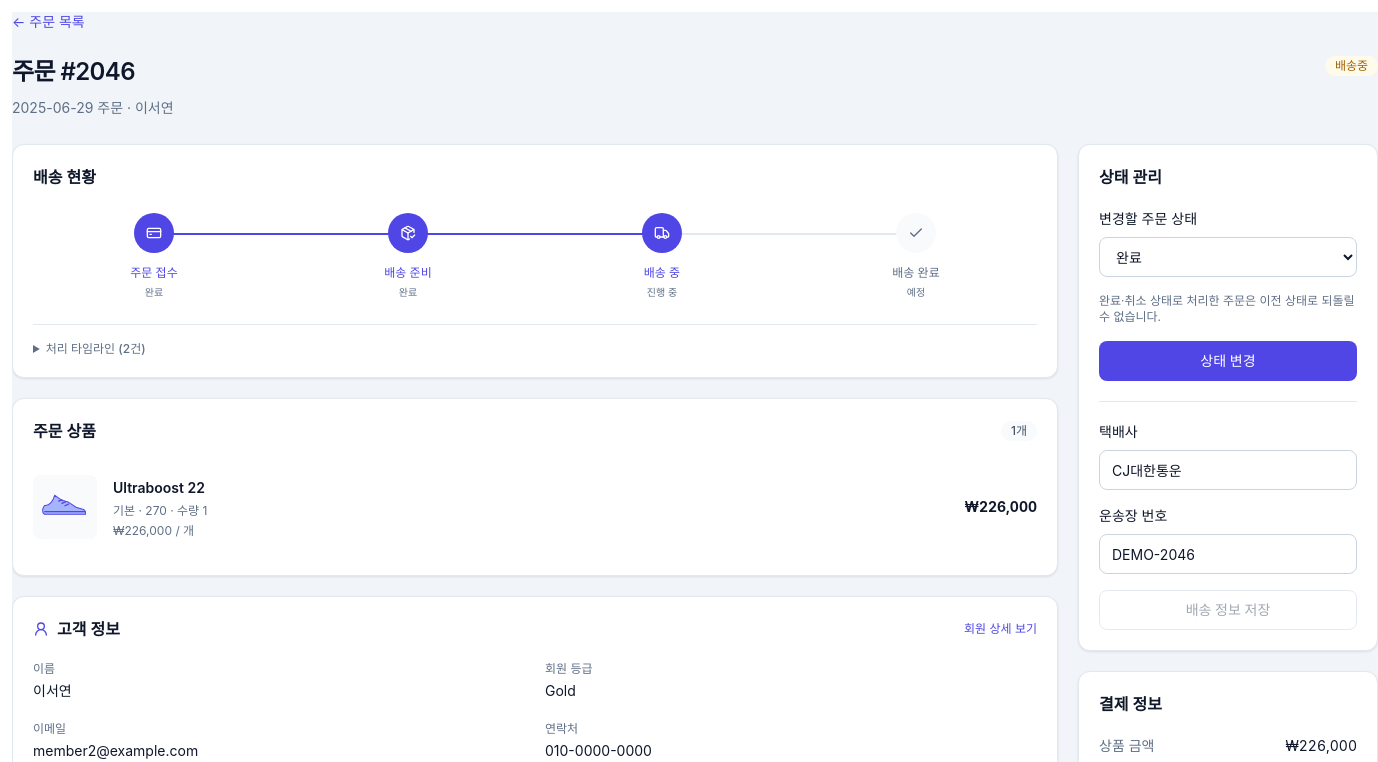
Test case: order management › 운송장을 검증하고 저장하며 상품과 결제 상세를 표시한다
Expected: the heading "배송 현황" is shown, [33,167,96,187]
Expected: the heading "주문 상품" is shown, [33,419,96,443]
Step 1. Replace the text in the field labelled "운송장 번호" with "잘못된 번호" → (1228, 554), box [1099,534,1357,574]
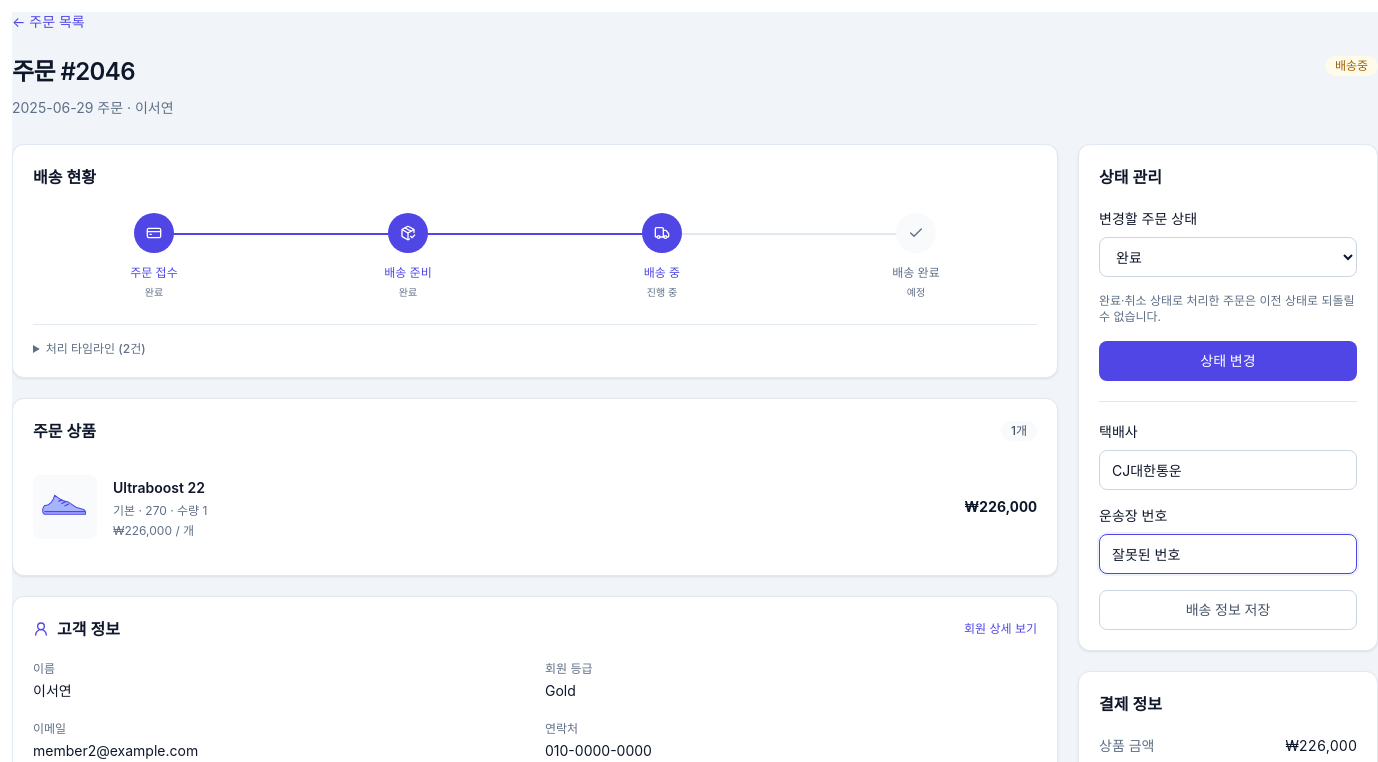
Step 2. Click the button "배송 정보 저장" → click(1228, 610), box [1099,590,1357,630]
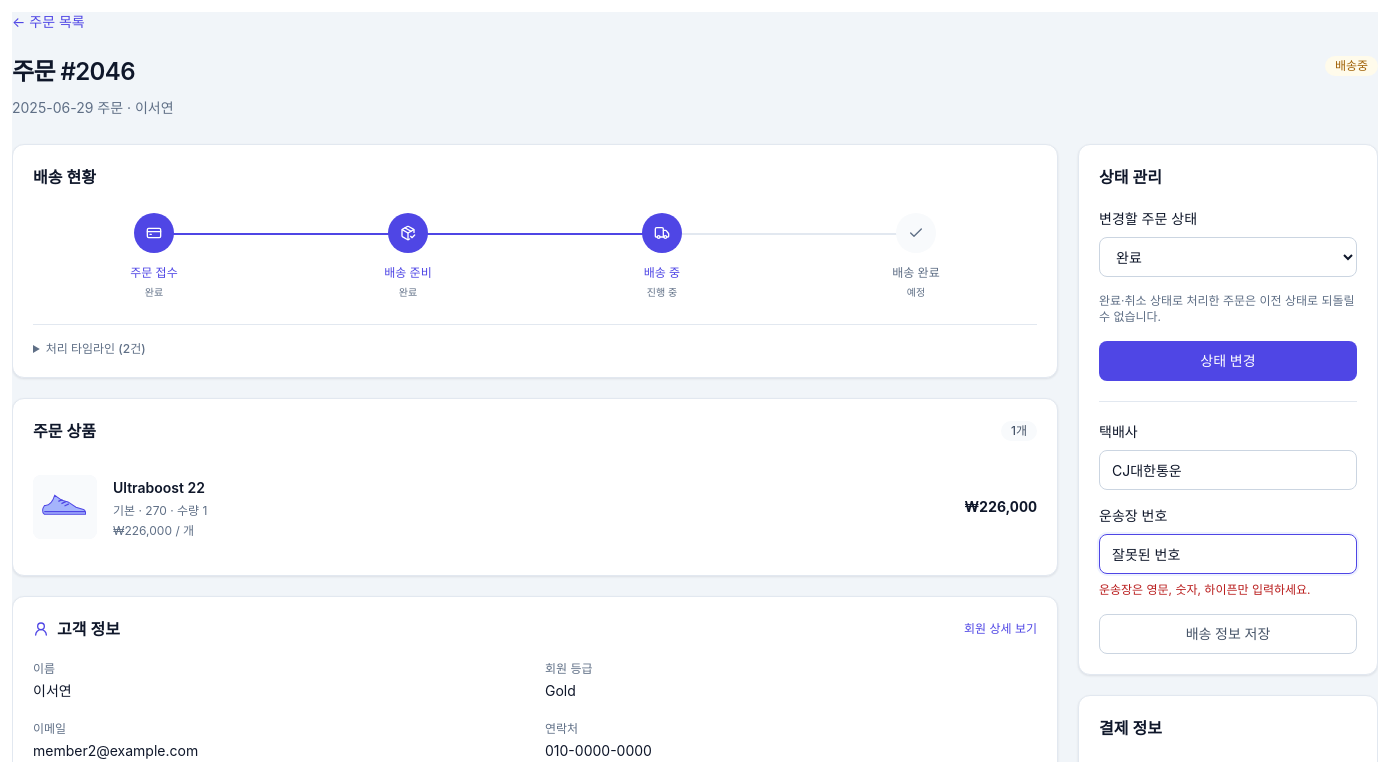
Expected: the message "운송장은 영문, 숫자, 하이픈만 입력하세요." is shown, [1099,582,1311,597]
Step 3. Replace the text in the field labelled "운송장 번호" with "DEMO-123456" → (1228, 554), box [1099,534,1357,574]
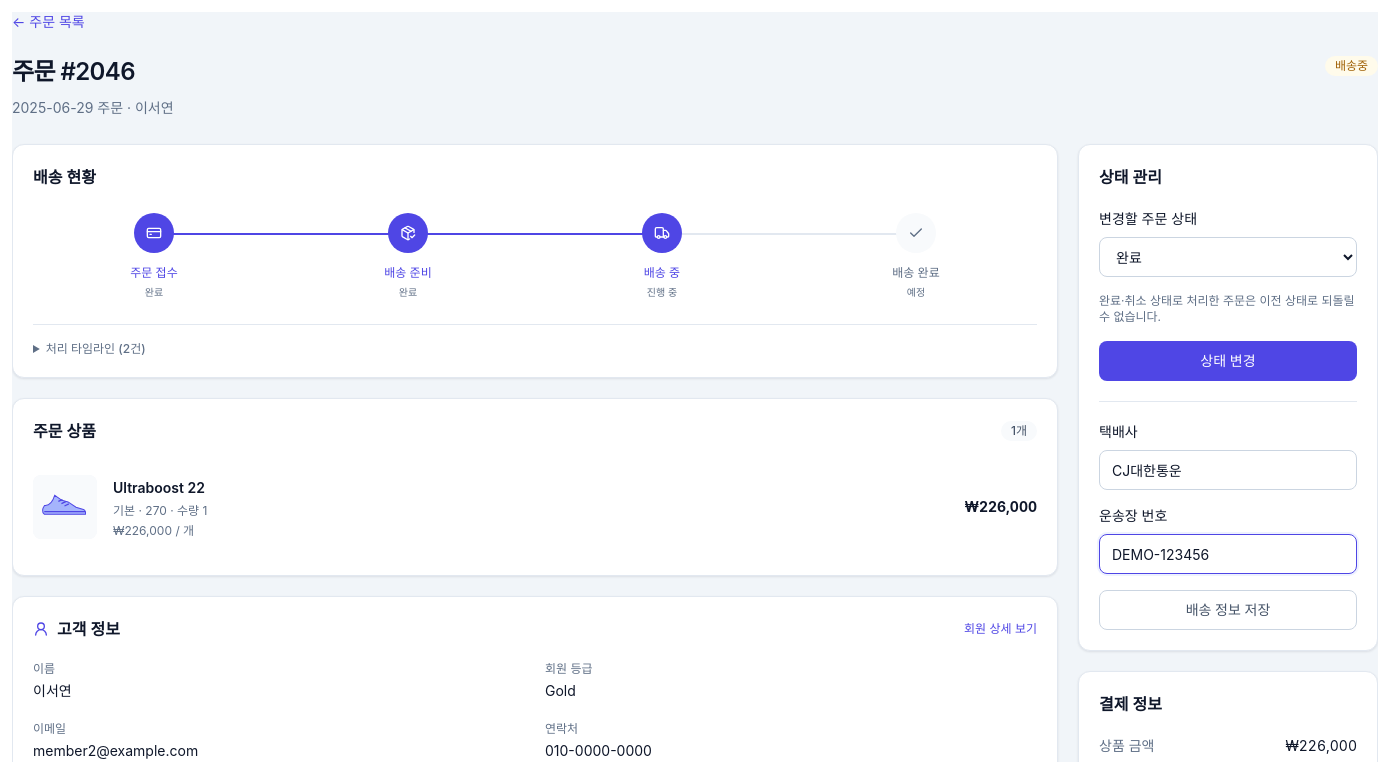
Step 4. Click the button "배송 정보 저장" → click(1228, 610), box [1099,590,1357,630]
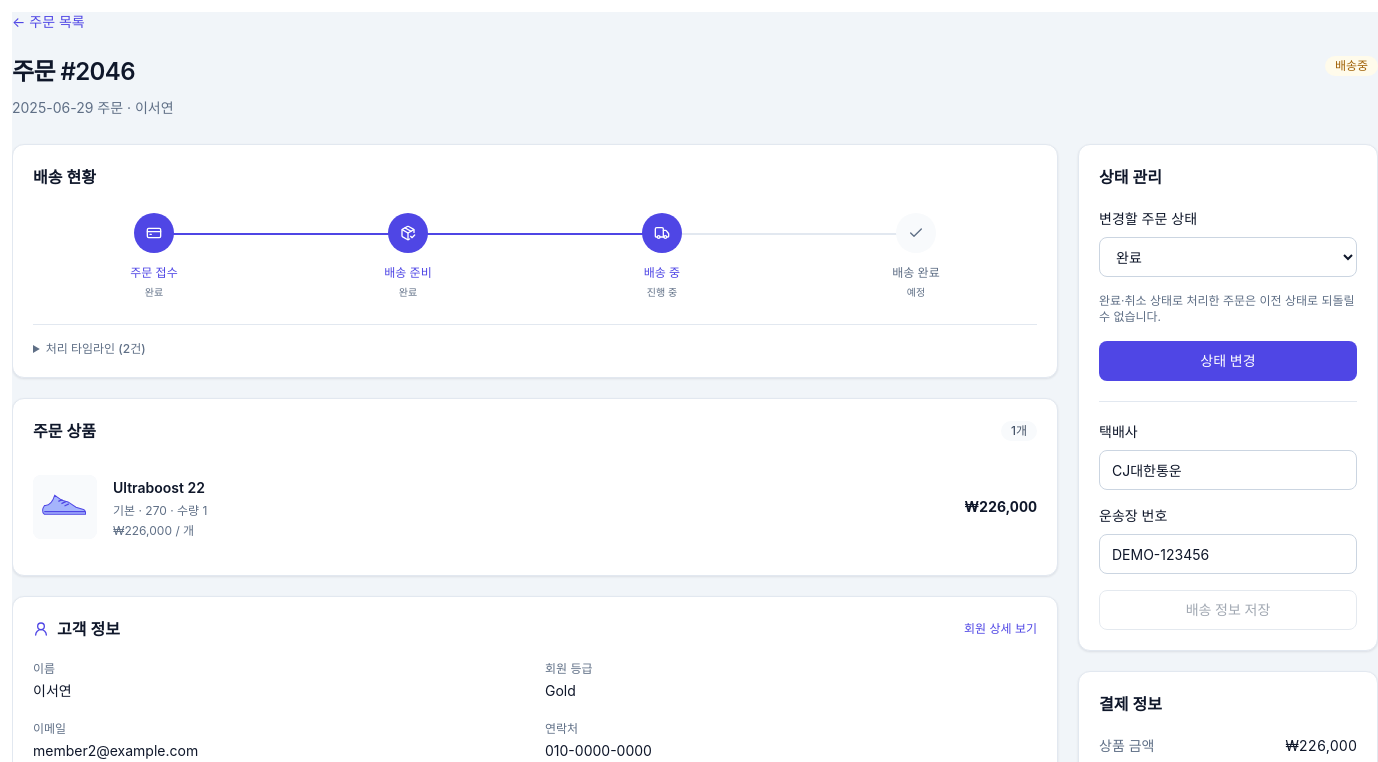
Expected: the button "배송 정보 저장" is disabled, [1099,590,1357,630]
